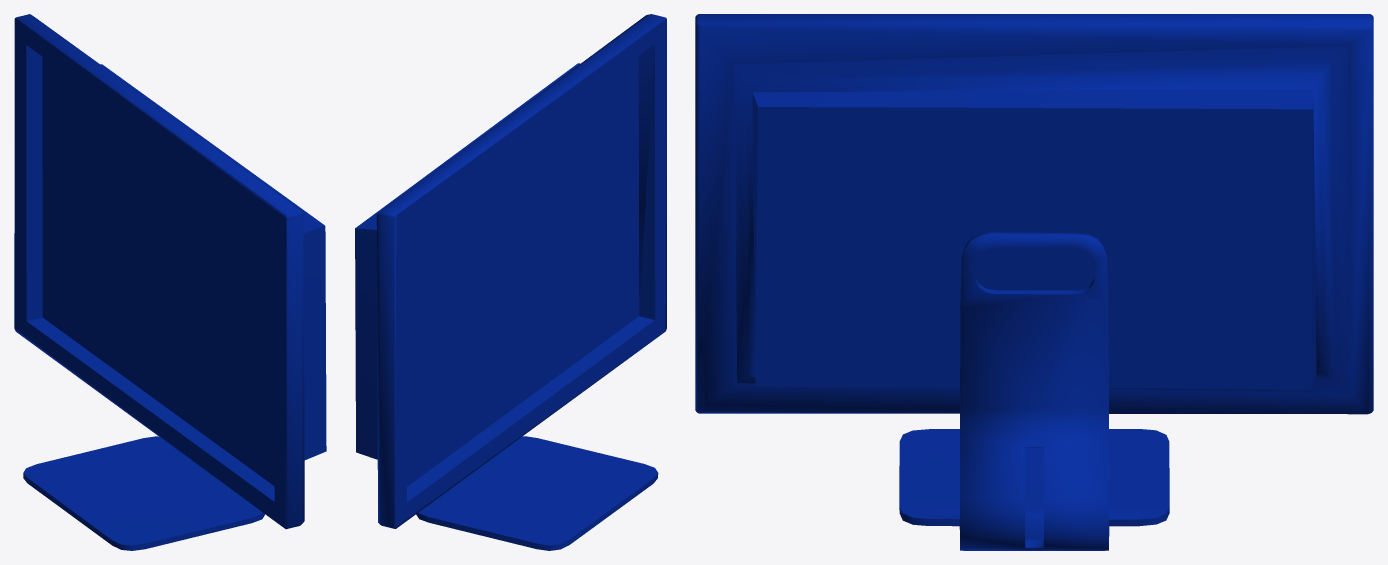
The picture shows the model from 3 angles, left to right: view 1: azimuth 30°, elevation 25°; view 2: azimuth 150°, elevation 25°; view 3: azimuth 270°, elevation 25°; orthographic projection. The views are drawn at different scales.
Visible parts, largest first — view 1: ecran002, port002; view 2: ecran002, port002; view 3: ecran002, port002.
Boxes of the visible parts, x1,y1,x2,y2 form: ecran002: (14, 14, 326, 529); port002: (23, 436, 264, 550); ecran002: (355, 14, 666, 528); port002: (416, 436, 658, 550); ecran002: (695, 14, 1373, 414); port002: (899, 232, 1169, 550).
Size of the model in its own units: 2.87 by 5.12 by 6.68.
